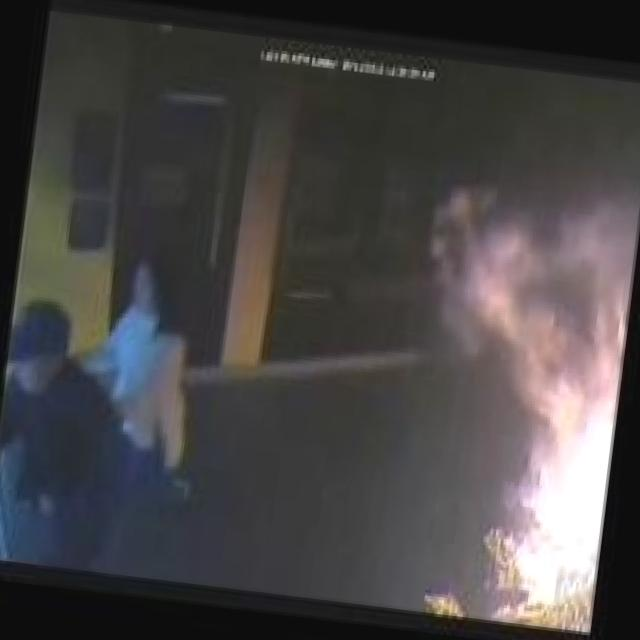fire: (401, 153, 640, 640)
